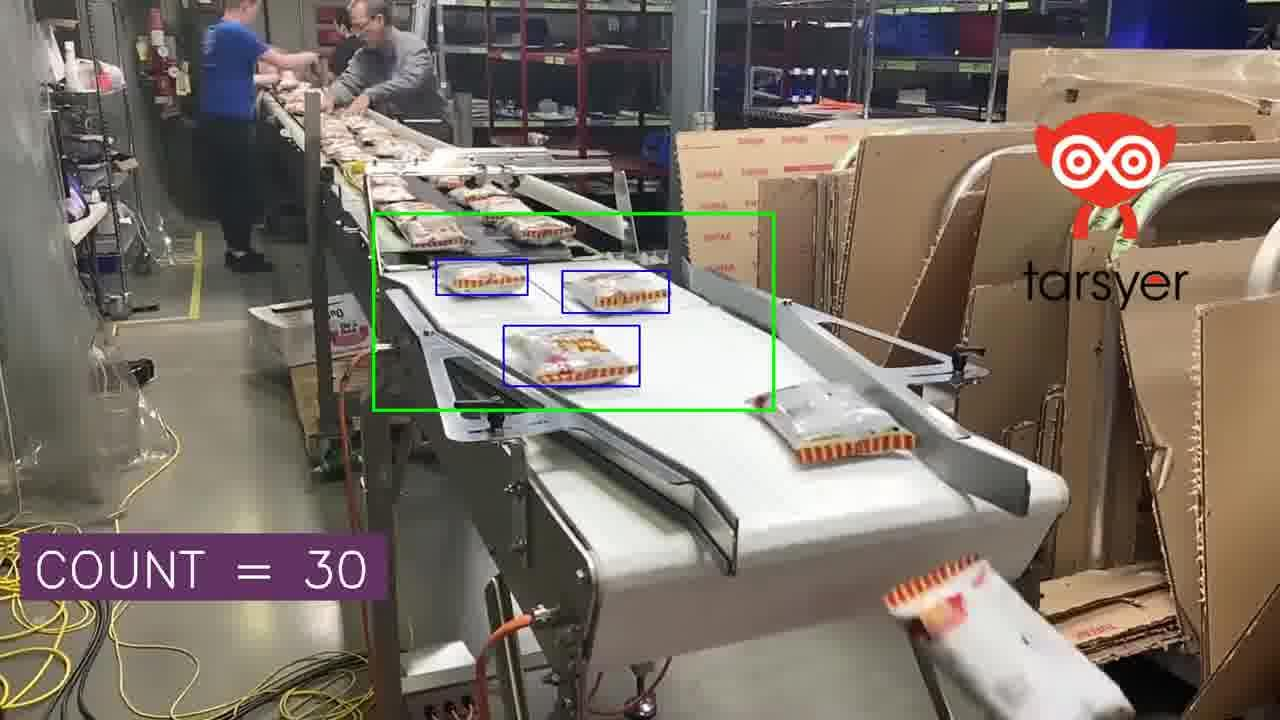Snack: (885, 558, 1134, 719), (760, 382, 915, 464), (506, 328, 638, 386), (564, 271, 670, 312), (438, 263, 529, 295), (397, 221, 476, 252), (498, 217, 575, 245), (471, 196, 531, 225), (448, 184, 509, 206), (369, 183, 415, 207), (382, 200, 441, 212), (434, 176, 464, 192), (369, 175, 406, 187)
